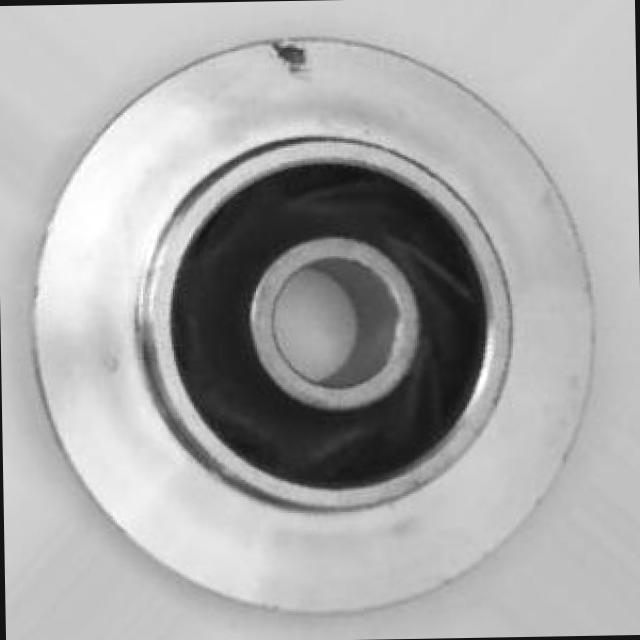Defect: (268, 35, 327, 84)
